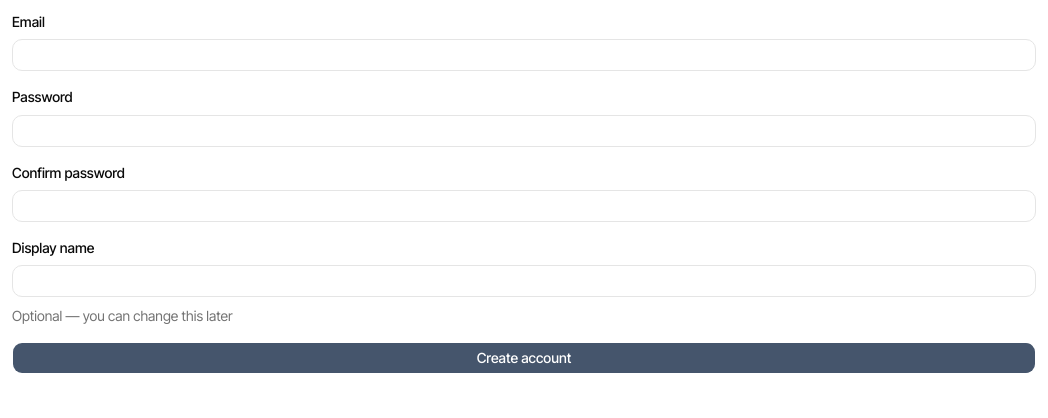
Test: RegistrationForm › shows error when passwords do not match
The width and height of the screenshot is (1048, 418).
Type "test@example.com" into the field below "Email" at (524, 55), box [12, 39, 1036, 71]
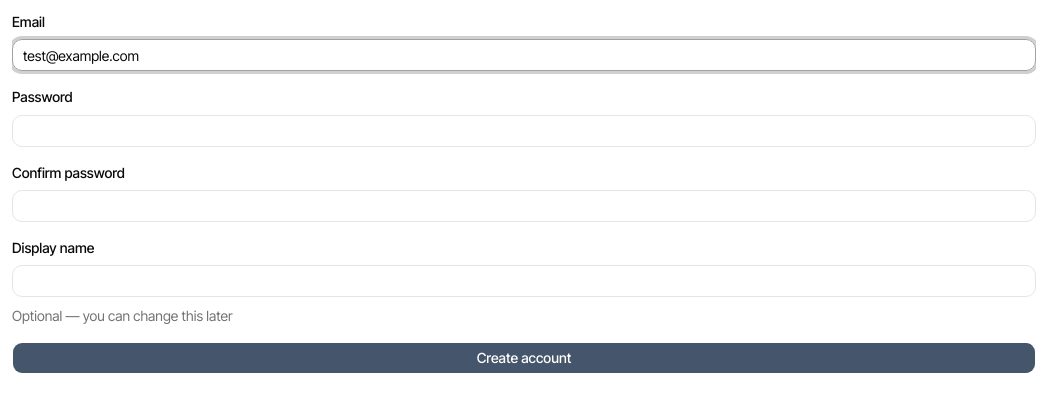
Type "securepass" into the 1st password field at (524, 130), box [12, 114, 1036, 146]
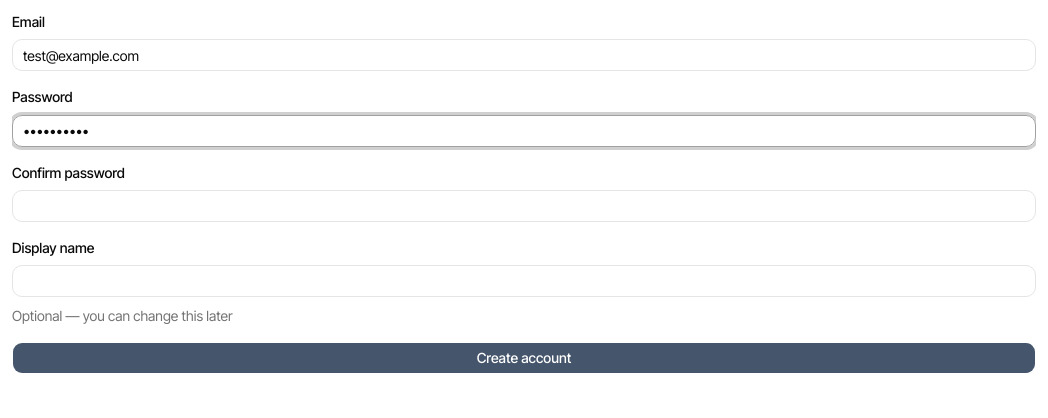
Type "differentpass" into the password field below "Confirm password" at (524, 206), box [12, 190, 1036, 222]
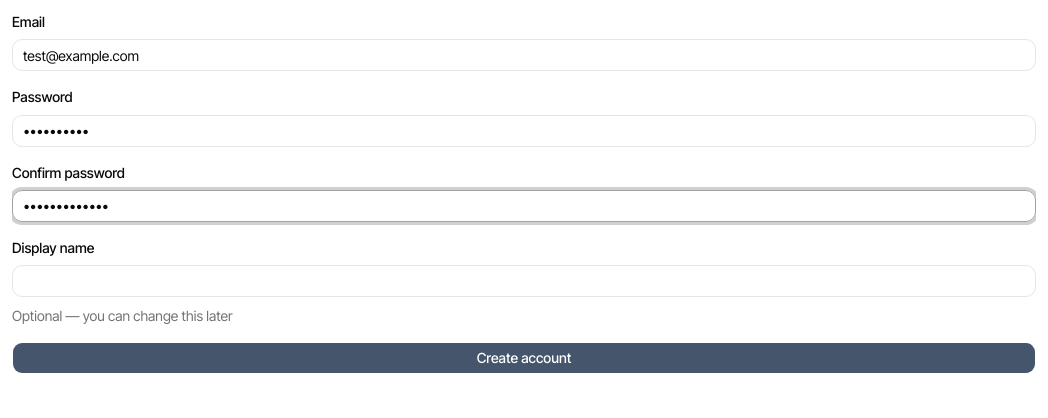
Type "Alice" into the field below "Display name" at (524, 281), box [12, 265, 1036, 297]
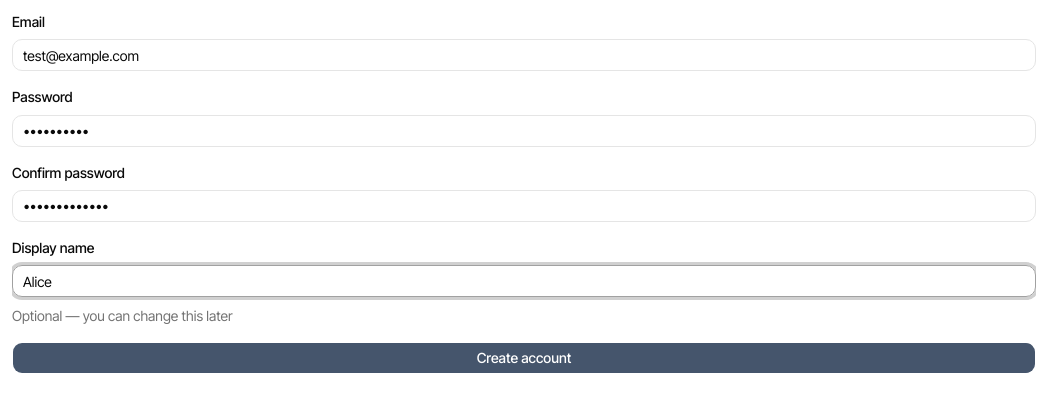
Click the button "Create account" at (524, 358), box [12, 342, 1036, 374]
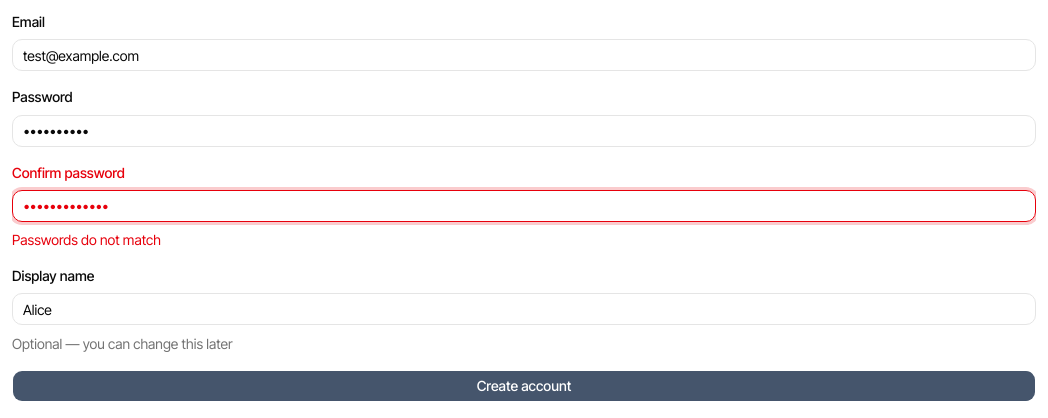
Now the text "Passwords do not match" is shown, box [12, 231, 161, 248]
